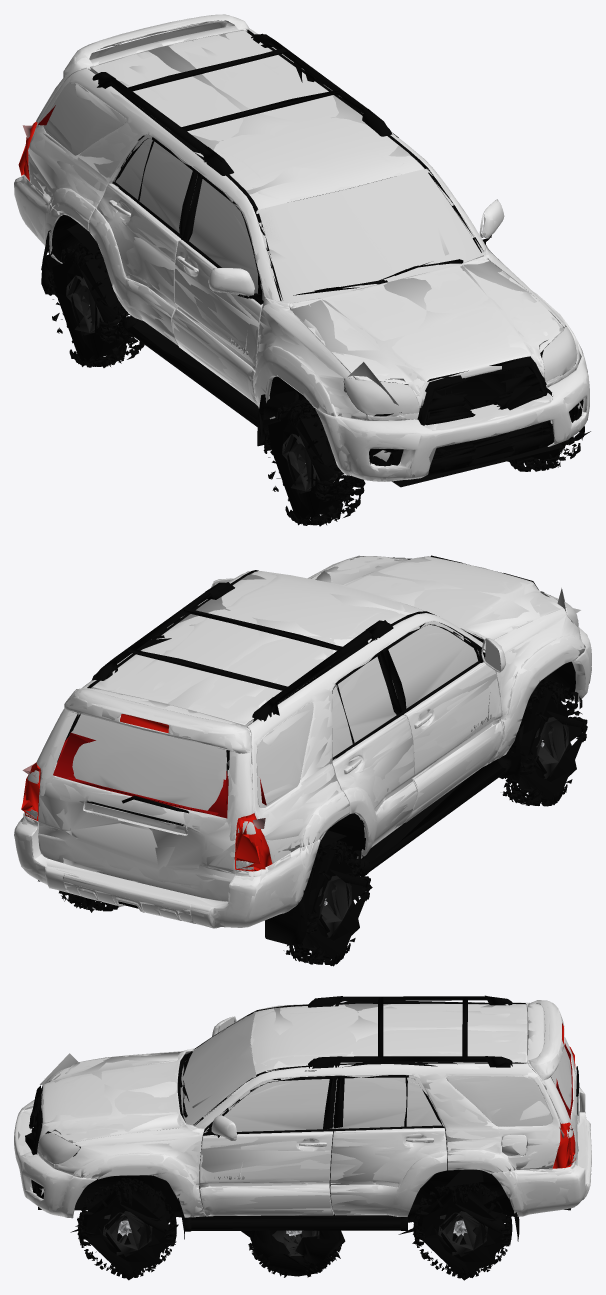
The model's file is suv14.glb.
3 renders of one model, top to bottom at view 1: azimuth 30°, elevation 25°; view 2: azimuth 150°, elevation 25°; view 3: azimuth 270°, elevation 25°, orthographic. The views are drawn at different scales.
Visible parts, largest first — view 1: body0, body2, body1; view 2: body0, body2, body1; view 3: body0, body2, body1, wheel1, wheel0.
Boxes of the visible parts, x1,y1,x2,y2 form: body0: [14, 15, 589, 524]; body2: [14, 14, 590, 526]; body1: [14, 14, 589, 525]; body0: [15, 556, 591, 964]; body2: [14, 555, 591, 965]; body1: [15, 555, 591, 966]; body0: [14, 996, 591, 1278]; body2: [14, 997, 591, 1280]; body1: [14, 995, 591, 1278]; wheel1: [241, 1230, 345, 1272]; wheel0: [248, 1230, 341, 1277].
Bounding box in the file's own units: 2.18 × 2.28 × 4.82.
